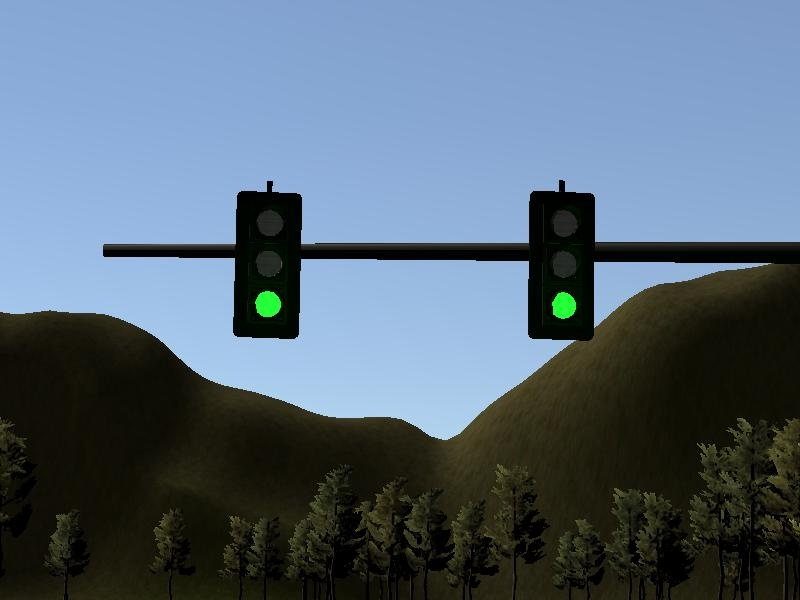traffic_light_green: (194, 185, 790, 339)
